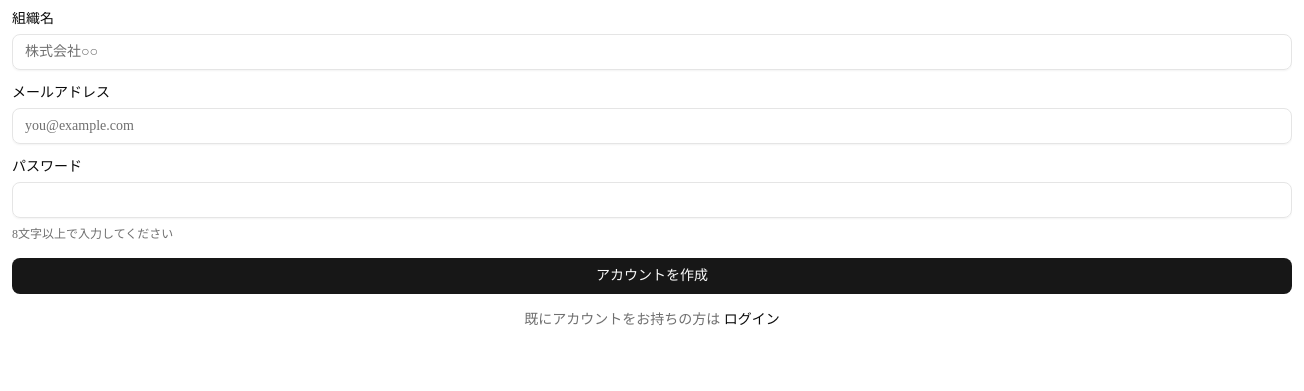
Test: SignupForm › バリデーションに失敗した入力を Server Action へ送らない
This screenshot has width=1304, height=391.
Click the button "アカウントを作成" at (652, 276), box [12, 258, 1292, 294]
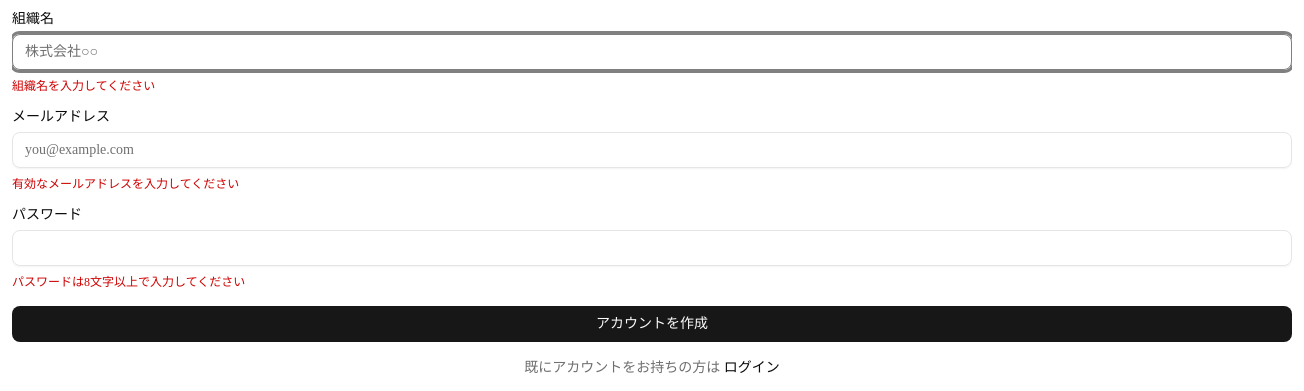
Expected: the text "組織名を入力してください" is shown, [12, 79, 155, 93]
